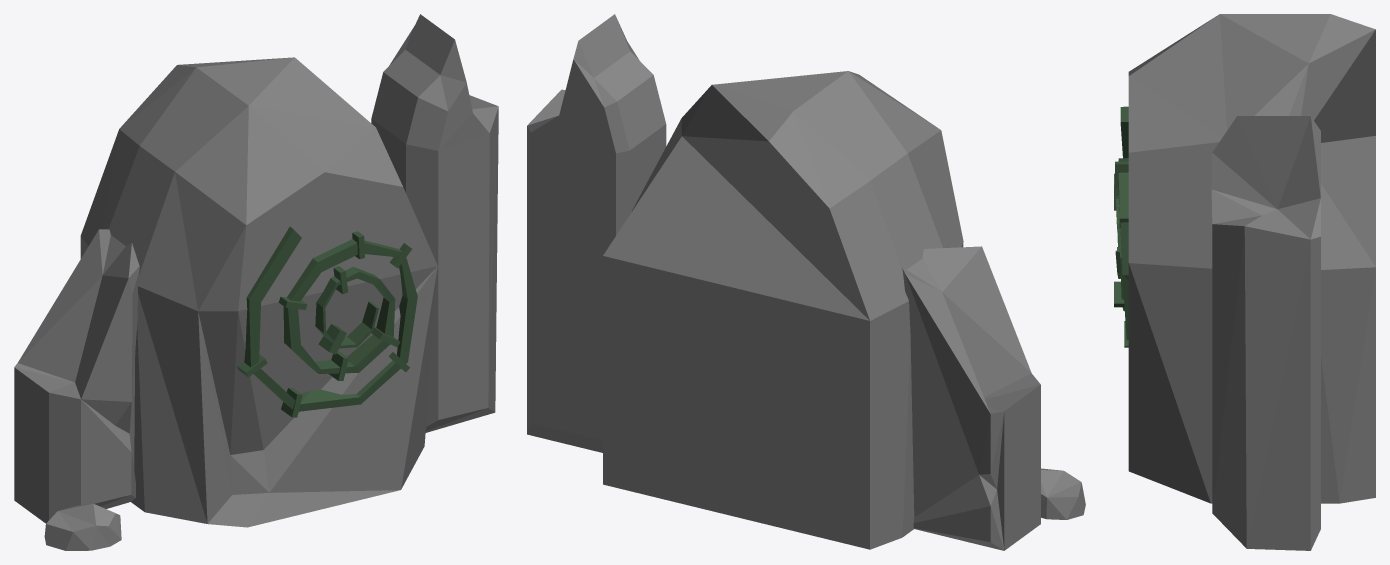
File: _sculpture_6.fbx
3 renders of one model, left to right at view 1: azimuth 30°, elevation 25°; view 2: azimuth 150°, elevation 25°; view 3: azimuth 270°, elevation 25°, orthographic. The views are drawn at different scales.
Parts seen in each view (by area): view 1: sculpture_6; view 2: sculpture_6; view 3: sculpture_6.
Part boxes in pixels (x1=…): sculpture_6: x1=14, y1=14, x2=498, y2=550; sculpture_6: x1=527, y1=14, x2=1085, y2=550; sculpture_6: x1=1114, y1=14, x2=1375, y2=550.
Bounding box in the file's own units: 189 × 147 × 85.04.
